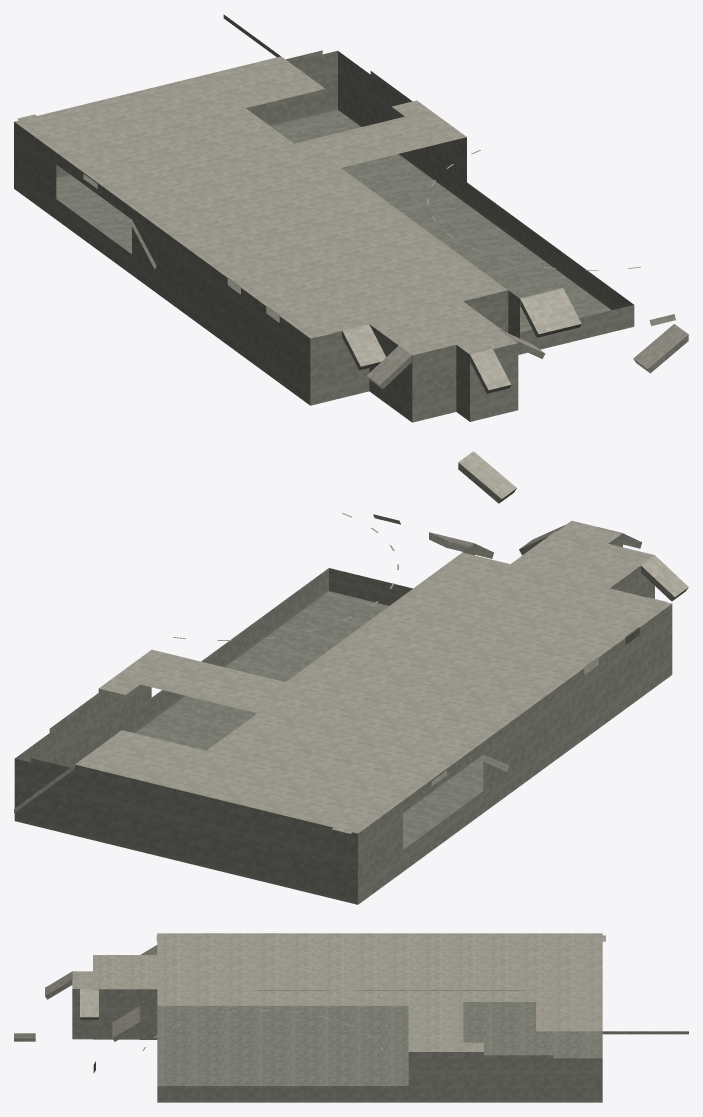
The model's file is SM_QD_Ground_CommercialStreets.fbx.
3 renders of one model, top to bottom at view 1: azimuth 30°, elevation 25°; view 2: azimuth 150°, elevation 25°; view 3: azimuth 270°, elevation 25°, orthographic. The views are drawn at different scales.
Visible parts, largest first — view 1: SM_QD_Ground_CommercialStreets; view 2: SM_QD_Ground_CommercialStreets; view 3: SM_QD_Ground_CommercialStreets.
Boxes of the visible parts, x1,y1,x2,y2 form: SM_QD_Ground_CommercialStreets: [14, 14, 688, 422]; SM_QD_Ground_CommercialStreets: [14, 451, 688, 904]; SM_QD_Ground_CommercialStreets: [14, 933, 688, 1102].
Bounding box in the file's own units: 41.13 × 98.73 × 8.76.
2 materials, 2 textured.
